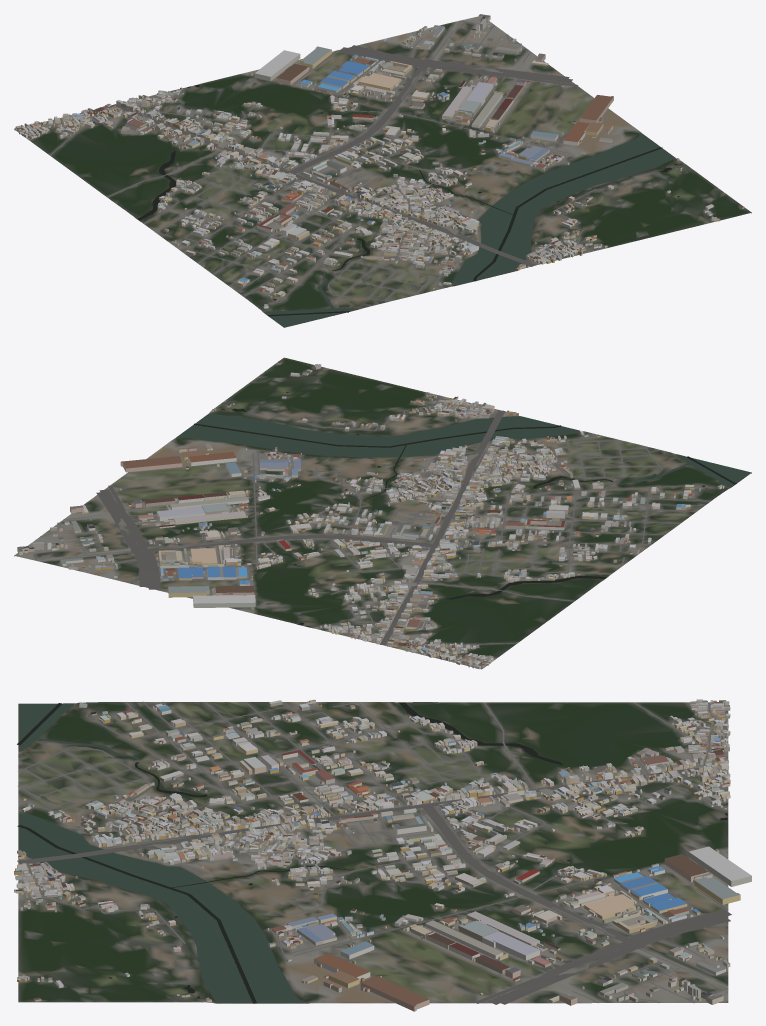
3 views of the same model, one above another, from view 1: azimuth 30°, elevation 25°; view 2: azimuth 150°, elevation 25°; view 3: azimuth 270°, elevation 25° (orthographic). The views are drawn at different scales.
Parts seen in each view (by area): view 1: ground, buildings, water, roads; view 2: ground, buildings, roads, water; view 3: ground, buildings, water, roads.
Boxes of the visible parts, box(x1,y1,x2,y2) form: ground: box(14, 16, 751, 327); buildings: box(14, 14, 744, 308); water: box(137, 84, 679, 327); roads: box(21, 20, 603, 303); ground: box(14, 357, 751, 669); buildings: box(17, 361, 724, 669); roads: box(27, 394, 711, 661); water: box(176, 392, 750, 626); ground: box(18, 702, 728, 1003); buildings: box(14, 699, 751, 1011); water: box(17, 702, 727, 1003); roads: box(17, 701, 731, 1004).
Bounding box in the file's own units: 1441 × 24.09 × 1456.
